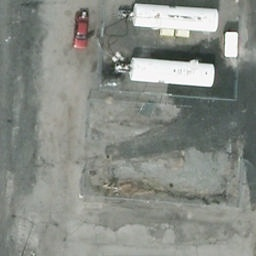car: (72, 9, 90, 50)
